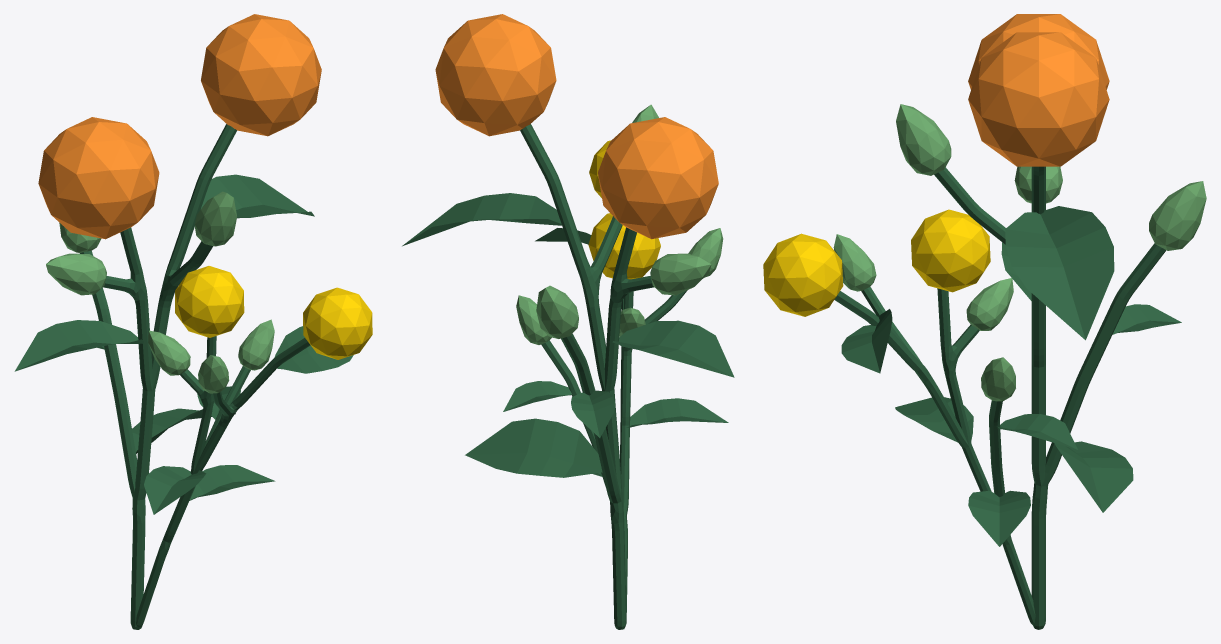
File: mod_vg_marigold.fbx
3 views of the same model, side by side, from view 1: azimuth 30°, elevation 25°; view 2: azimuth 150°, elevation 25°; view 3: azimuth 270°, elevation 25° (orthographic). The views are drawn at different scales.
Parts seen in each view (by area): view 1: tige1, Fleur1, fleur2, fleur4, fleur3, bourgeon1, bourgeon2, bourgeon4, bourgeon6, bourgeon5, bourgeon3; view 2: tige1, Fleur1, fleur2, fleur3, bourgeon1, bourgeon3, bourgeon6, bourgeon5, bourgeon4; view 3: tige1, fleur2, fleur4, fleur3, bourgeon3, bourgeon2, Fleur1, bourgeon4, bourgeon5, bourgeon6, bourgeon1.
Part boxes in pixels (x1,y1,x2,y2): tige1: (14,124,353,629); Fleur1: (38,117,159,239); fleur2: (201,14,321,136); fleur4: (303,287,372,359); fleur3: (175,266,244,337); bourgeon1: (46,253,106,295); bourgeon2: (195,191,236,246); bourgeon4: (148,330,190,375); bourgeon6: (238,319,274,370); bourgeon5: (198,355,229,393); bourgeon3: (59,223,101,252); tige1: (402,124,734,629); Fleur1: (598,117,718,239); fleur2: (435,14,556,136); fleur3: (588,213,660,279); bourgeon1: (650,253,711,295); bourgeon3: (536,285,578,338); bourgeon6: (516,295,551,344); bourgeon5: (688,228,723,277); bourgeon4: (619,307,645,336); tige1: (834,166,1181,629); fleur2: (968,32,1109,166); fleur4: (763,233,843,316); fleur3: (911,209,990,292); bourgeon3: (1149,181,1206,250); bourgeon2: (896,104,951,175); Fleur1: (968,14,1109,89); bourgeon4: (966,278,1013,330); bourgeon5: (833,234,876,291); bourgeon6: (981,357,1015,401); bourgeon1: (1014,166,1062,203).
Bounding box in the file's own units: 67.44 × 118 × 71.43.
